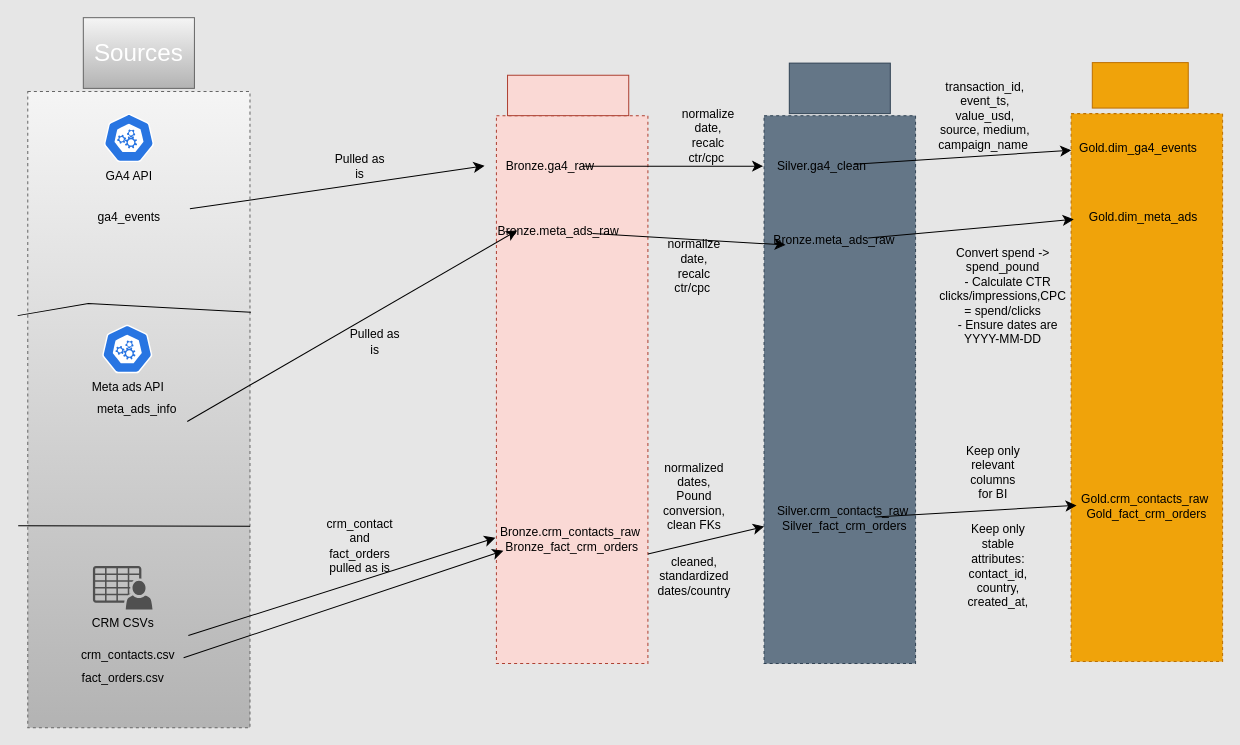
Image size: 1240x745. Some labels were removed from this diagram. Here are the shapes that lost their labels. From the top down, the box of each, then its label:
(507, 74, 629, 116): Bronze Layer
(788, 62, 890, 114): Silver Layer
(1091, 62, 1188, 108): Gold Layer
